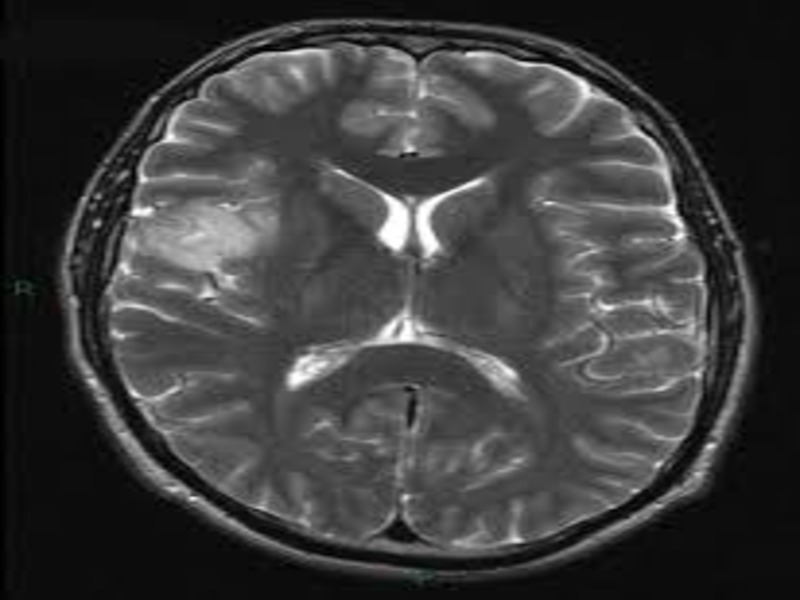tumor: (368, 187, 456, 274)
